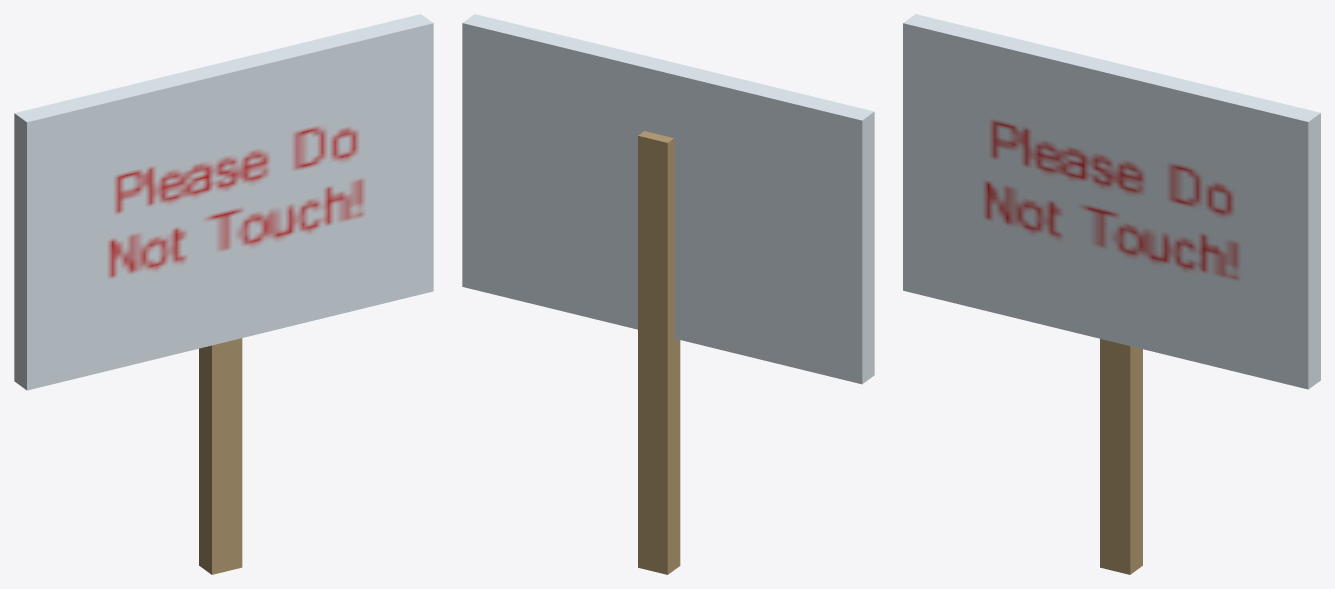
The model's file is sign.fbx.
3 renders of one model, left to right at view 1: azimuth 30°, elevation 25°; view 2: azimuth 150°, elevation 25°; view 3: azimuth 330°, elevation 25°, orthographic.
Parts seen in each view (by area): view 1: pCube5; view 2: pCube5; view 3: pCube5.
Part boxes in pixels (x1,y1,x2,y2): pCube5: (14, 14, 433, 574); pCube5: (462, 14, 874, 574); pCube5: (903, 14, 1320, 574).
Size of the model in its own units: 78.91 by 93.46 by 6.42.
